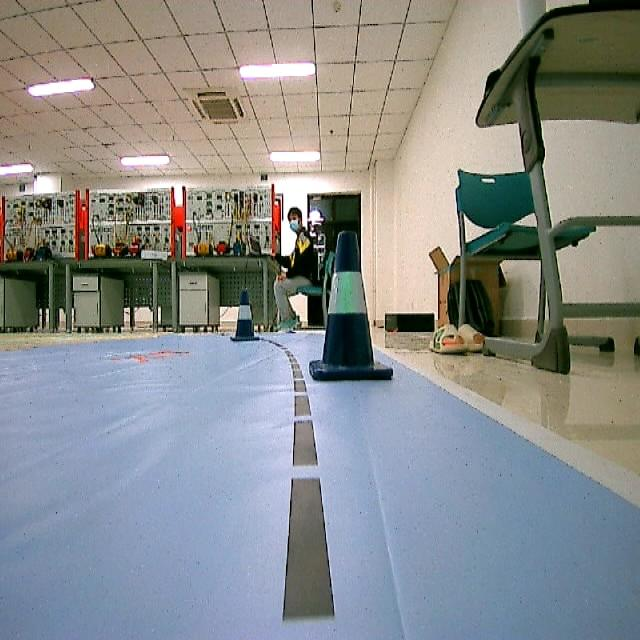obstacle: (317, 229, 389, 384), (229, 286, 260, 348)
